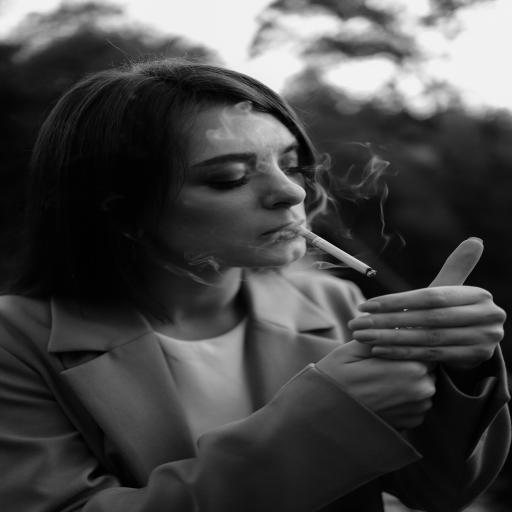terdeteksi merokok: (207, 109, 390, 293)
